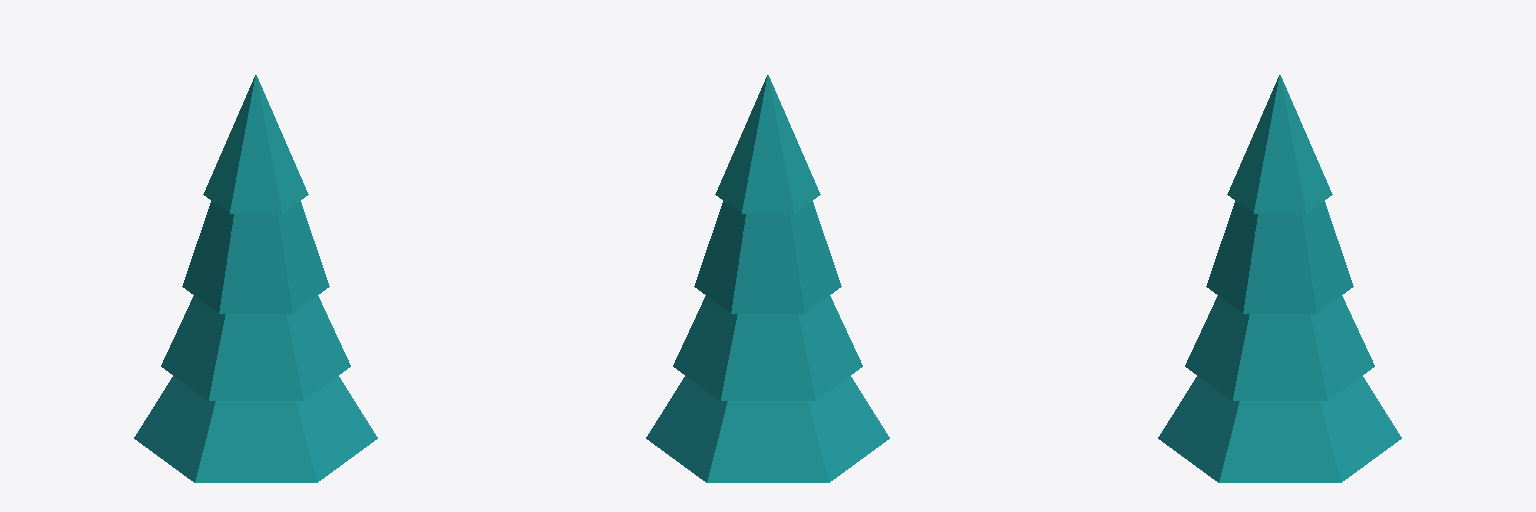
Rendered from tree_pineGroundA.obj.
The picture shows the model from 3 angles: view 1: azimuth 30°, elevation 25°; view 2: azimuth 150°, elevation 25°; view 3: azimuth 270°, elevation 25°; orthographic projection.
Visible parts, largest first — view 1: tree_pineGroundA; view 2: tree_pineGroundA; view 3: tree_pineGroundA.
Part boxes in pixels (x1,y1,x2,y2): tree_pineGroundA: (134, 75, 377, 482); tree_pineGroundA: (646, 75, 889, 482); tree_pineGroundA: (1158, 75, 1401, 482).
Bounding box in the file's own units: 0.4804 × 0.9145 × 0.5547.